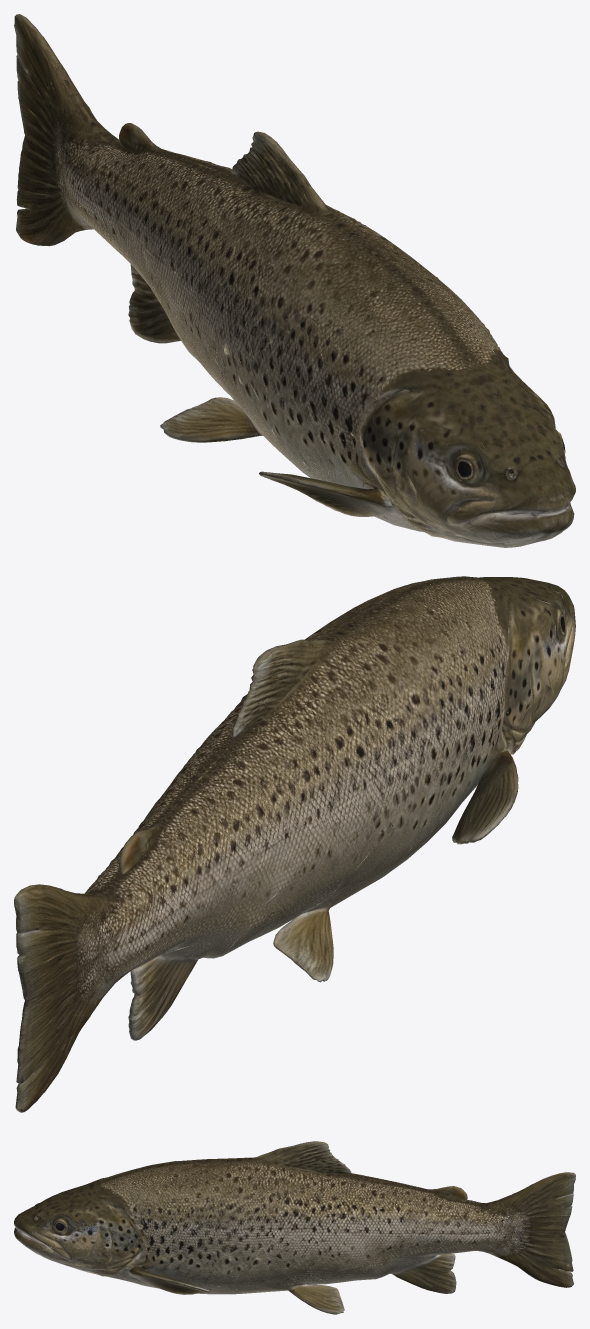
The model's file is troc.glb.
The picture shows the model from 3 angles, top to bottom: view 1: azimuth 30°, elevation 25°; view 2: azimuth 150°, elevation 25°; view 3: azimuth 270°, elevation 25°; orthographic projection. The views are drawn at different scales.
Parts seen in each view (by area): view 1: Mesh_0; view 2: Mesh_0; view 3: Mesh_0.
Part boxes in pixels (x1,y1,x2,y2): Mesh_0: [14, 14, 575, 547]; Mesh_0: [14, 576, 575, 1112]; Mesh_0: [14, 1141, 575, 1314].
Size of the model in its own units: 0.483 by 0.5723 by 1.9.
1 material, 1 textured.
